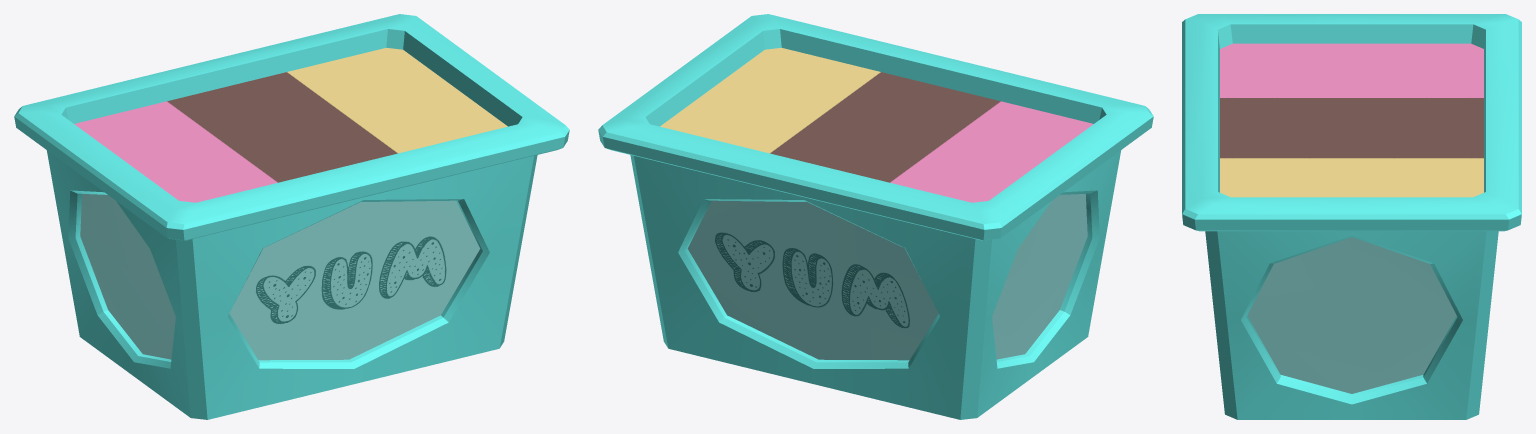
Rendered from IcecreamTub_Trial_01.fbx.
The picture shows the model from 3 angles, left to right: view 1: azimuth 30°, elevation 25°; view 2: azimuth 150°, elevation 25°; view 3: azimuth 270°, elevation 25°; orthographic projection. The views are drawn at different scales.
Visible parts, largest first — view 1: polySurface177; view 2: polySurface177; view 3: polySurface177.
Part boxes in pixels (x1=…): polySurface177: x1=14, y1=14, x2=569, y2=419; polySurface177: x1=598, y1=14, x2=1153, y2=419; polySurface177: x1=1182, y1=14, x2=1521, y2=419.
Size of the model in its own units: 56.66 by 30 by 40.12.
Materials: 1 (1 with a texture image).
